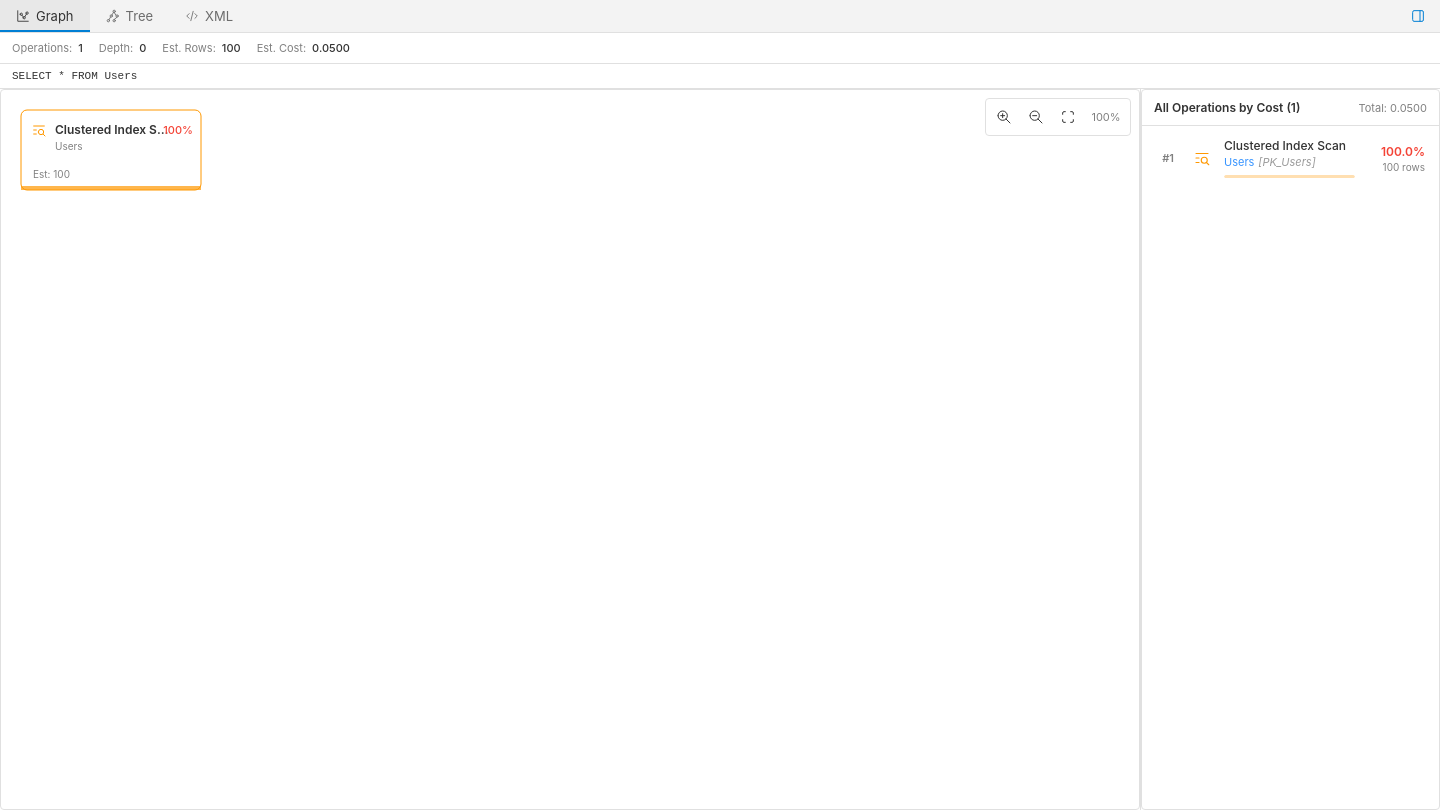
Scenario: QueryPlanView › View mode tabs › switches to Tree view when Tree tab is clicked
Click the button with test id "plan-tab-tree" at [129, 16], box [90, 0, 169, 32]
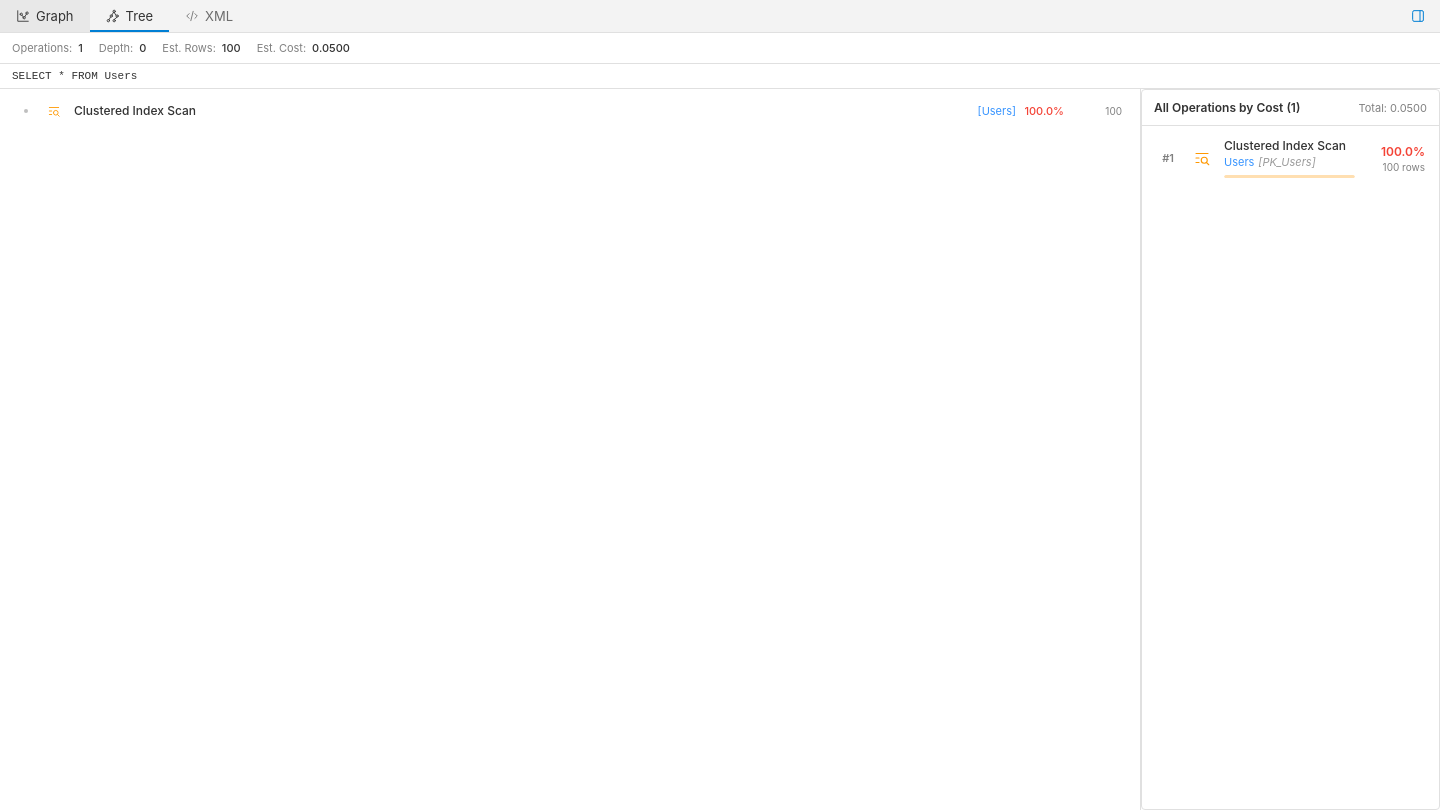
expect the element with test id "plan-tree-view" is shown: met, box [24, 103, 1122, 118]
